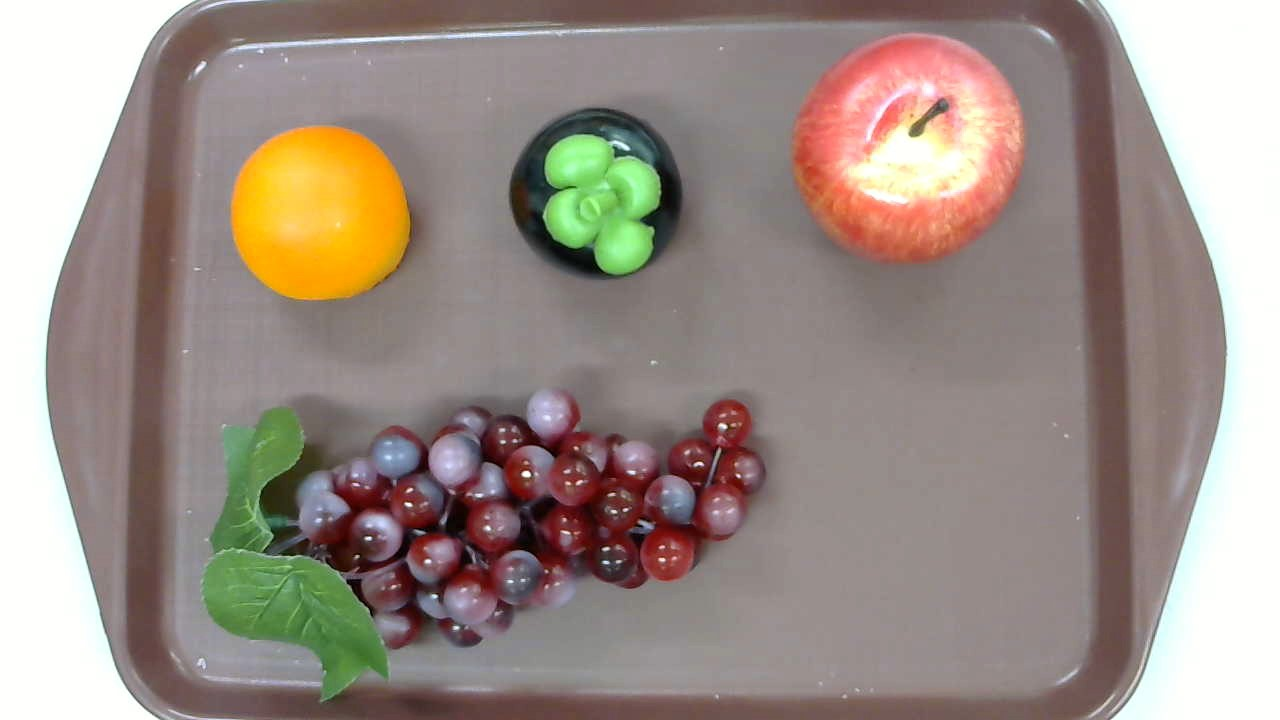bun: (230, 125, 410, 300)
grape: (202, 384, 766, 703)
mangosteen: (508, 108, 684, 278)
red apple: (791, 32, 1026, 265)
